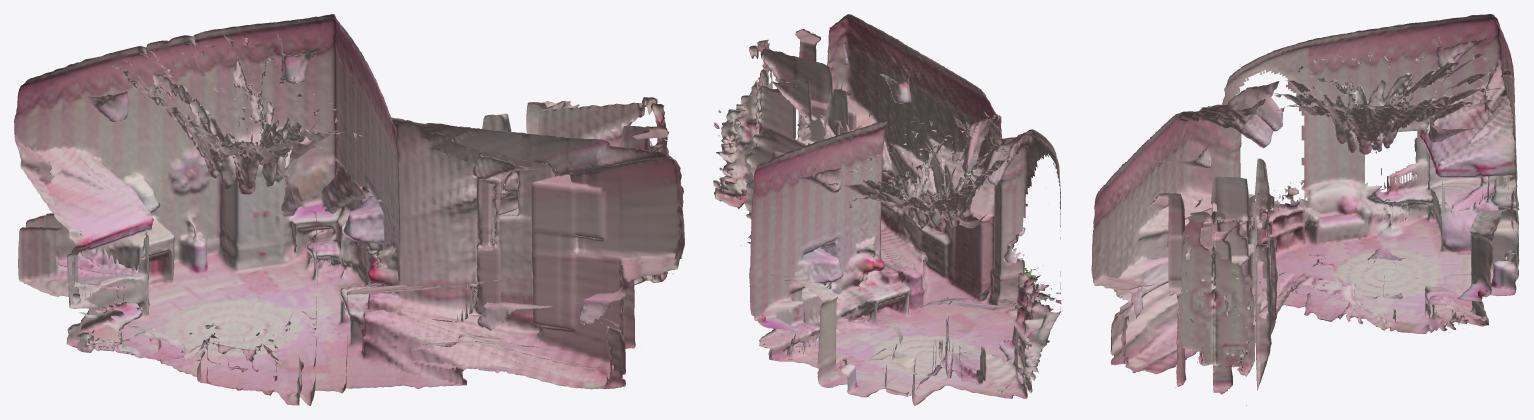
The model's file is lovely-pink-interior_collider.glb.
3 renders of one model, left to right at view 1: azimuth 30°, elevation 25°; view 2: azimuth 150°, elevation 25°; view 3: azimuth 270°, elevation 25°, orthographic. The views are drawn at different scales.
Visible parts, largest first — view 1: world; view 2: world; view 3: world.
Part boxes in pixels (x1,y1,x2,y2): world: [14, 14, 684, 405]; world: [713, 14, 1061, 405]; world: [1091, 14, 1519, 405].
Size of the model in its own units: 10.2 by 4.67 by 8.81.
